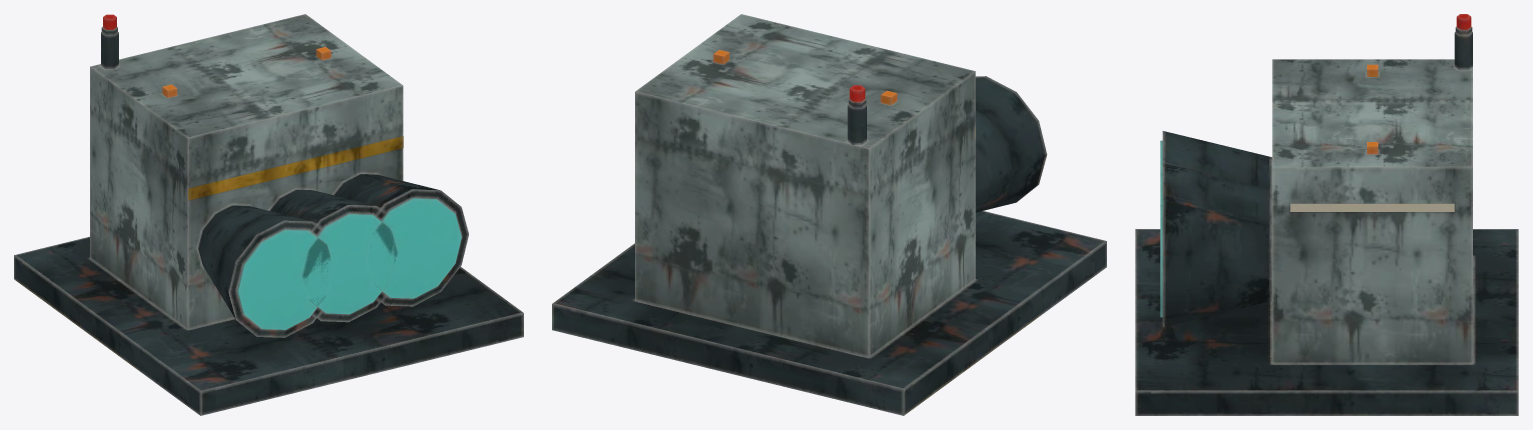
File: epstein_drive.glb
The picture shows the model from 3 angles, left to right: view 1: azimuth 30°, elevation 25°; view 2: azimuth 150°, elevation 25°; view 3: azimuth 270°, elevation 25°; orthographic projection. The views are drawn at different scales.
Visible parts, largest first — view 1: te_epstein_drive; view 2: te_epstein_drive; view 3: te_epstein_drive.
Part boxes in pixels (left/top/right/bottom): te_epstein_drive: left=14, top=14, right=523, bottom=415; te_epstein_drive: left=552, top=14, right=1106, bottom=415; te_epstein_drive: left=1135, top=14, right=1518, bottom=415.
Size of the model in its own units: 0.84 by 0.6576 by 0.84.
Materials: 1 (1 with a texture image).
